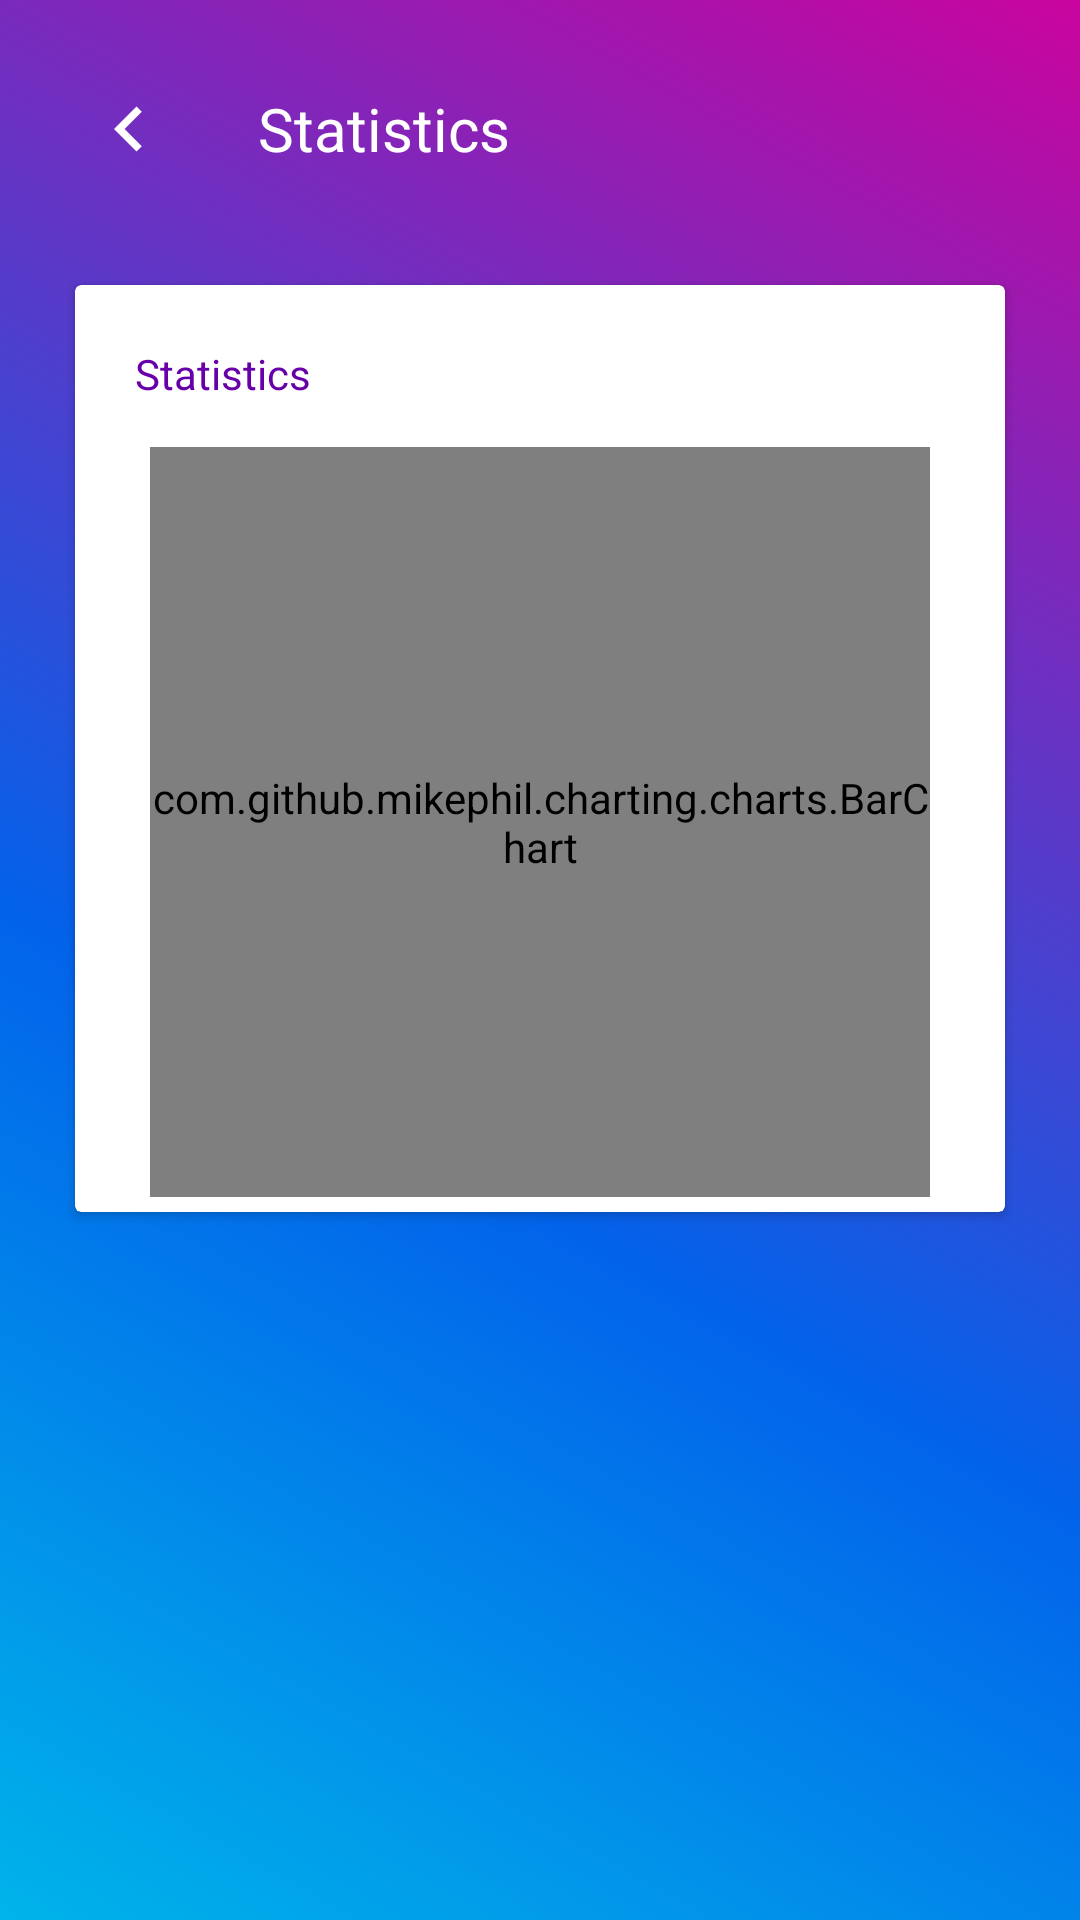

Icons on this 1080px×1920px Android screen, each with the point to tap as [x,y]:
chevron: [128,129]
